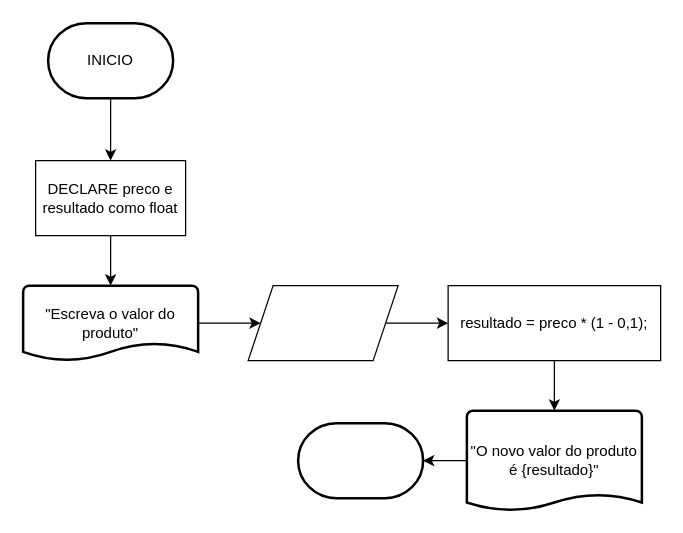
Some shapes in this 683 by 533 pixel diagram are drawn without their labels. Each missing label, with the centre of its shape:
FIM: (x=360, y=460)
LEIA preco: (x=322, y=322)
